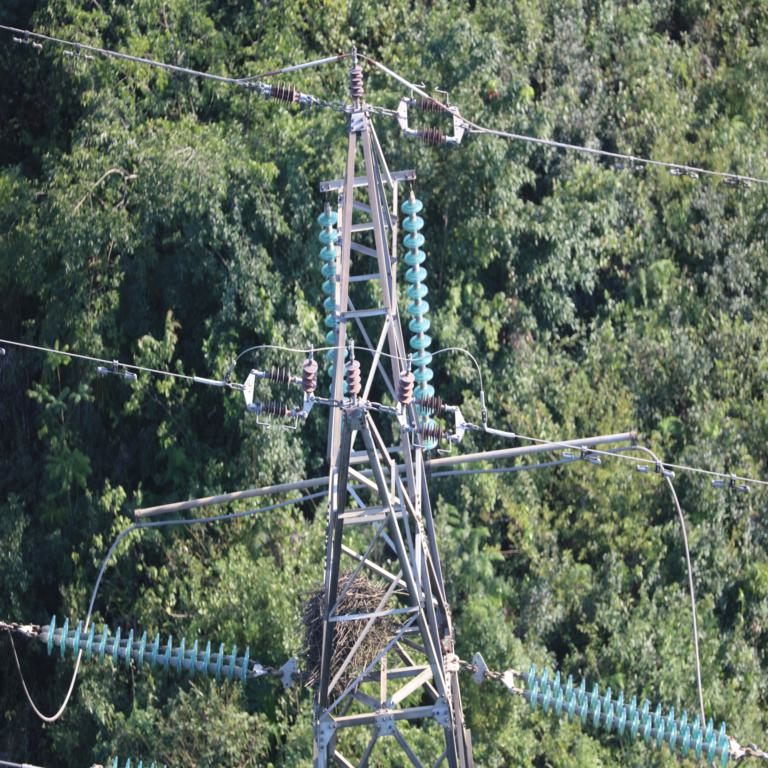nest: (306, 581, 388, 697)
